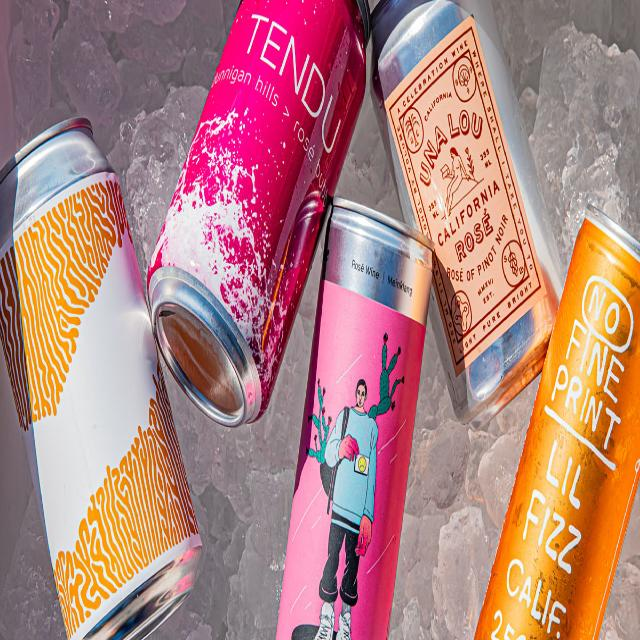Cans: (4, 105, 202, 638), (270, 186, 437, 640)
